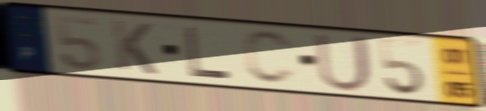5: (376, 35, 428, 99), (53, 13, 103, 72)
C: (242, 28, 300, 87)
K: (109, 18, 160, 77)
L: (182, 24, 234, 81)
U: (312, 31, 375, 94)
